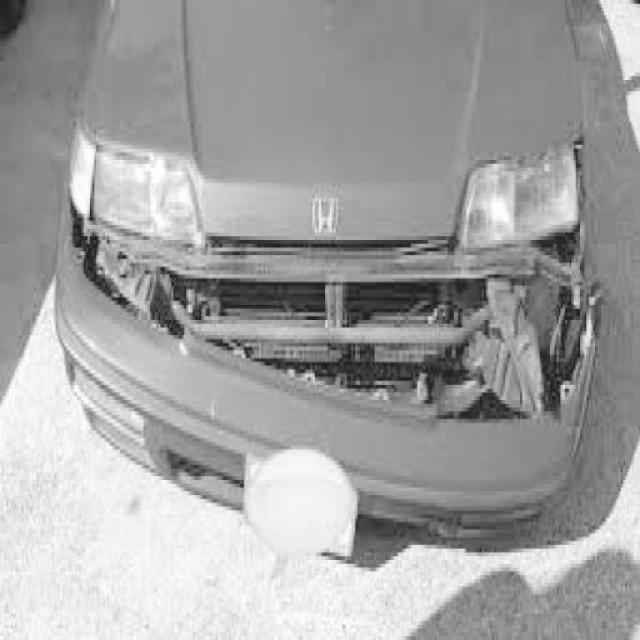car damage: (61, 171, 598, 493)
